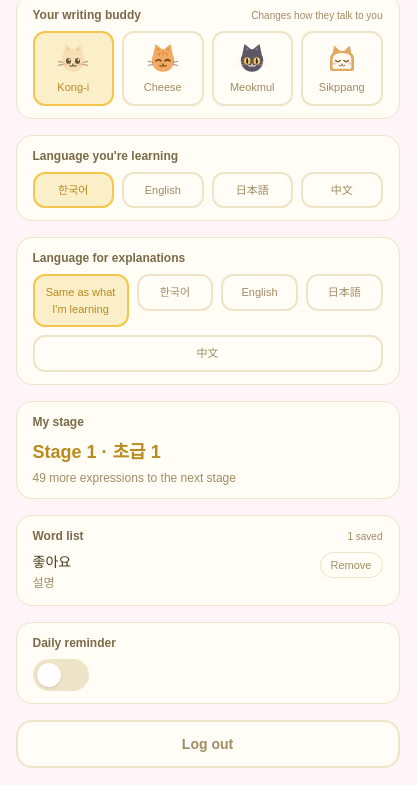
Test: 단어장 › 빼면 목록에서 사라지고 단계를 다시 센다
This screenshot has width=417, height=785.
(page scrolled)
Click the button "Remove".
click(351, 565)  # box [320,552,382,578]
(page scrolled)
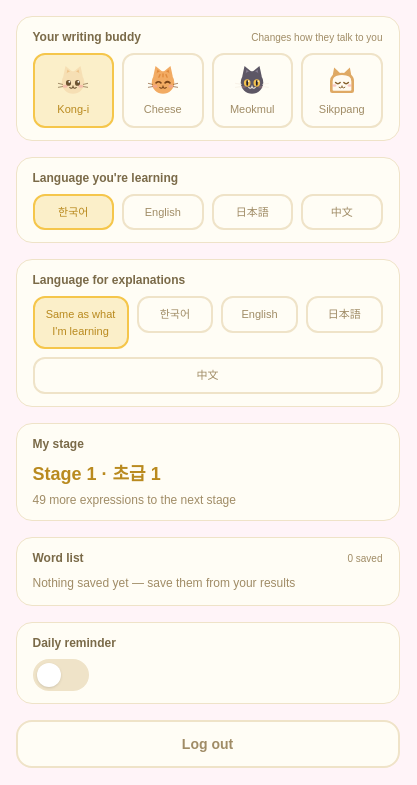
Check: the text "Nothing saved yet — save them from your results" is shown, box [32,576,295,590]
